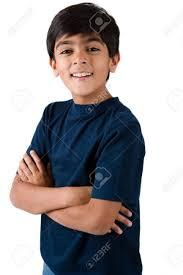Human: (5, 0, 151, 272)
